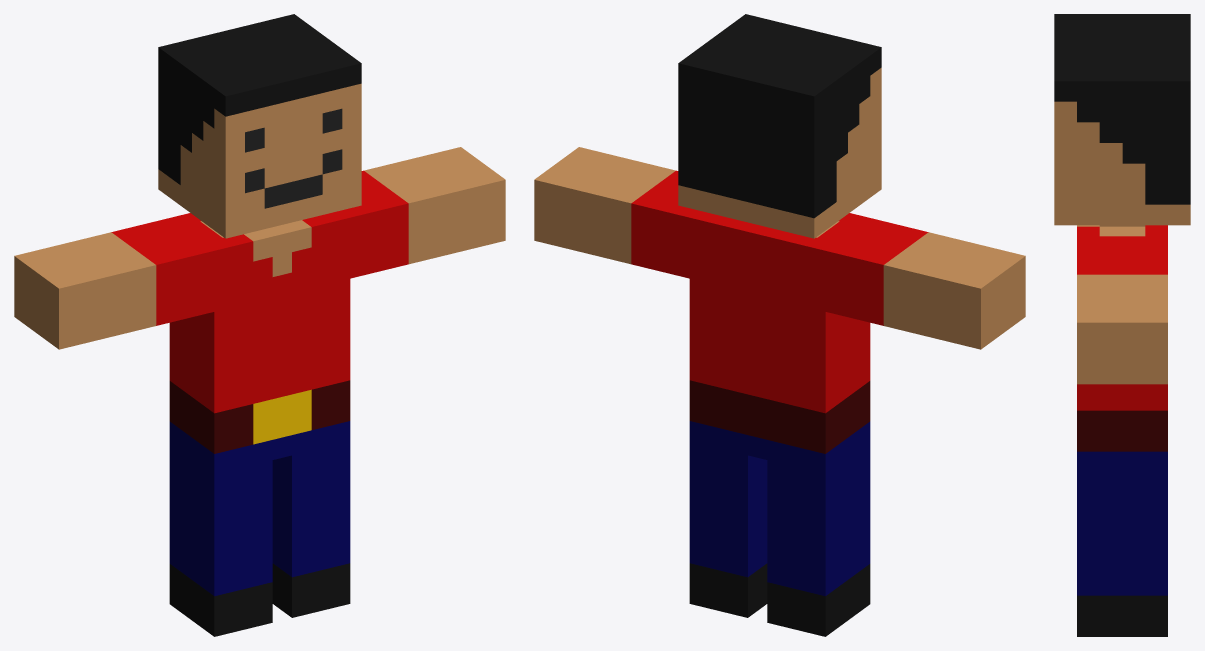
The model's file is human.obj.
The picture shows the model from 3 angles, left to right: view 1: azimuth 30°, elevation 25°; view 2: azimuth 150°, elevation 25°; view 3: azimuth 270°, elevation 25°; orthographic projection.
Bounding box in the file's own units: 2.3 × 2.7 × 0.6.
1 material, 1 textured.
